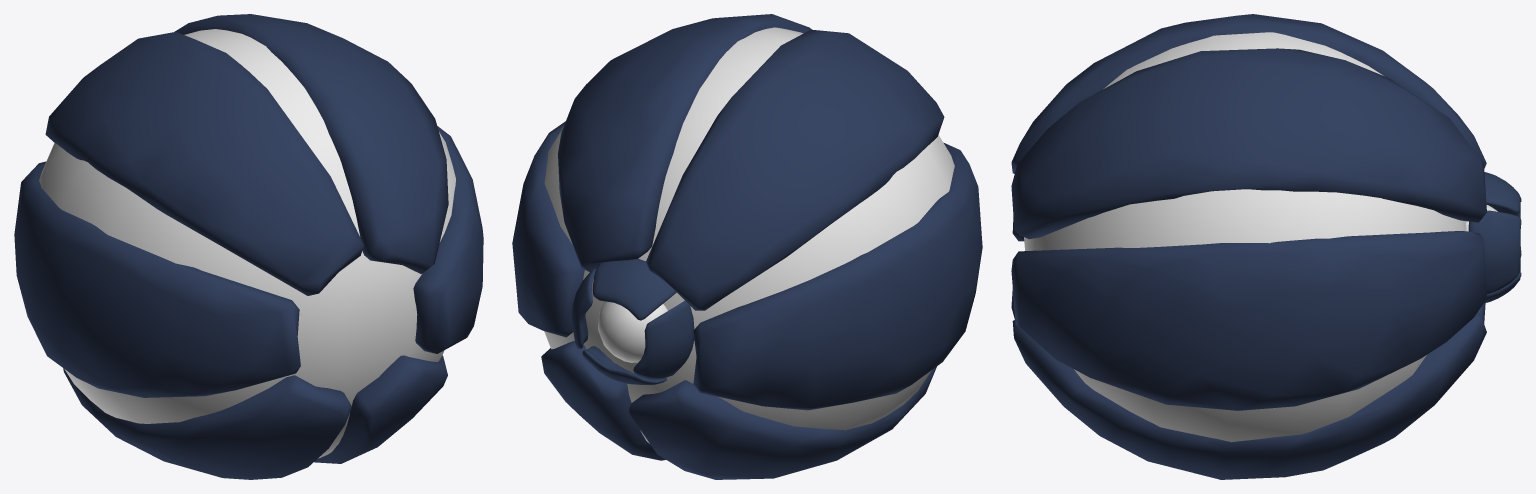
The model's file is Enemy_1.fbx.
3 views of the same model, side by side, from view 1: azimuth 30°, elevation 25°; view 2: azimuth 150°, elevation 25°; view 3: azimuth 270°, elevation 25° (orthographic).
Parts seen in each view (by area): view 1: Enemy_1; view 2: Enemy_1; view 3: Enemy_1.
Boxes of the visible parts, <box> form: Enemy_1: <box>14,14,483,479</box>; Enemy_1: <box>512,14,982,479</box>; Enemy_1: <box>1011,14,1521,479</box>.
Size of the model in its own units: 245 by 242 by 269.
